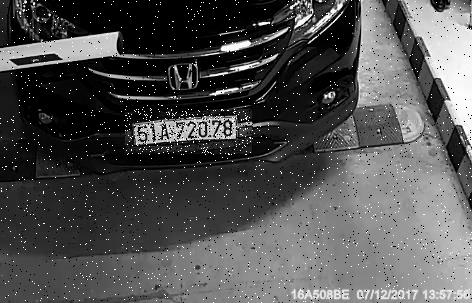License-plate: (127, 111, 255, 157)
